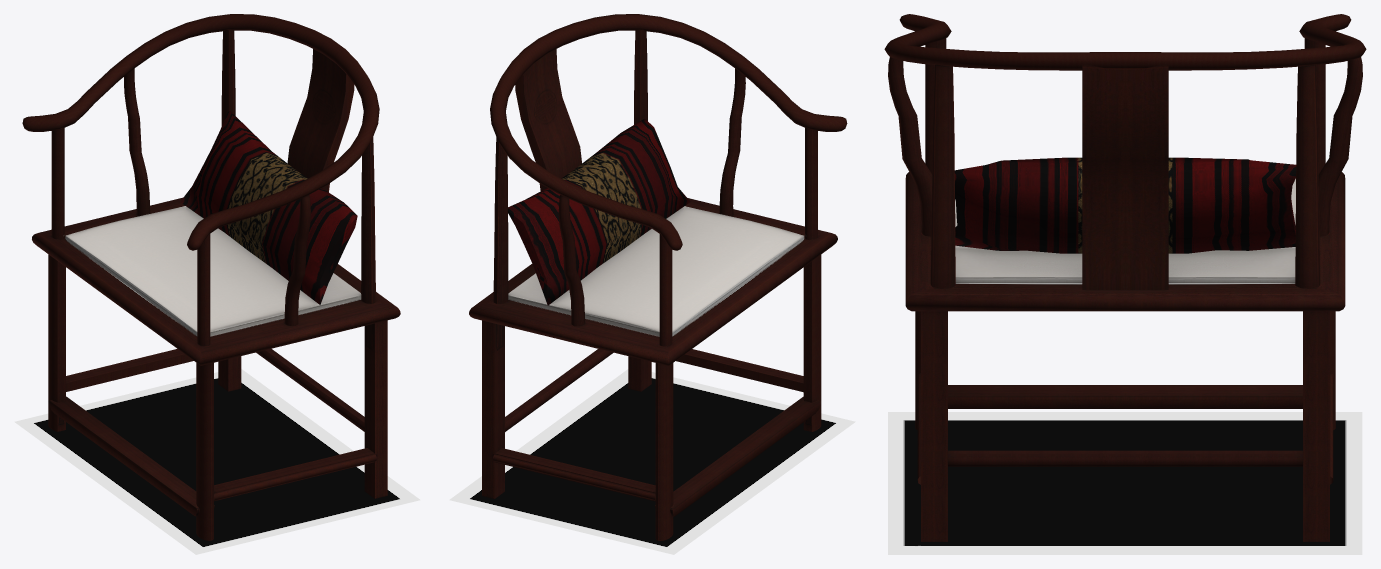
File: cheer004.dae
3 views of the same model, side by side, from view 1: azimuth 30°, elevation 25°; view 2: azimuth 150°, elevation 25°; view 3: azimuth 270°, elevation 25° (orthographic). The views are drawn at different scales.
Visible parts, largest first — view 1: cheer004, sd_cheer004; view 2: cheer004, sd_cheer004; view 3: cheer004, sd_cheer004.
Boxes of the visible parts, x1,y1,x2,y2 form: cheer004: (22, 14, 400, 540); sd_cheer004: (14, 369, 420, 554); cheer004: (469, 14, 847, 540); sd_cheer004: (449, 369, 855, 554); cheer004: (884, 14, 1366, 541); sd_cheer004: (888, 412, 1362, 554).
Size of the model in its own units: 56.63 by 89.15 by 76.94.
Materials: 2 (2 with a texture image).
